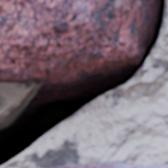brick: (0, 0, 150, 83), (63, 162, 167, 167)
crack: (0, 0, 166, 167)
